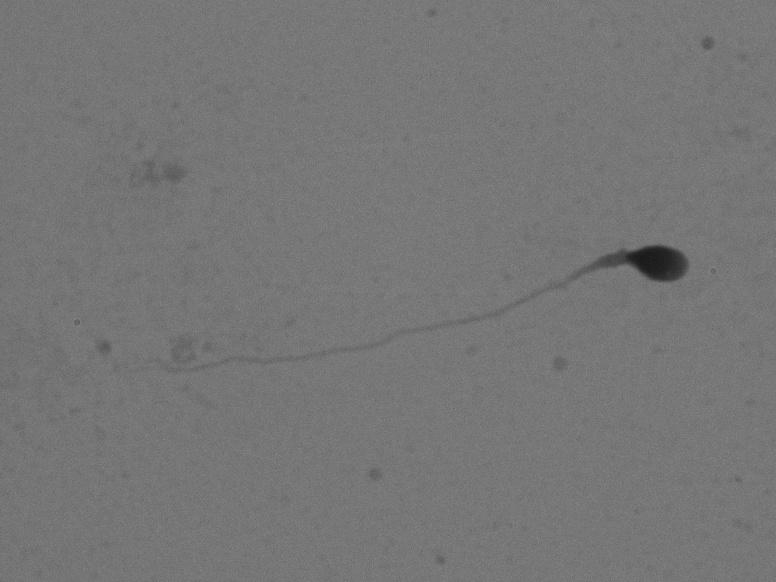Abnormal: (104, 230, 705, 409)
